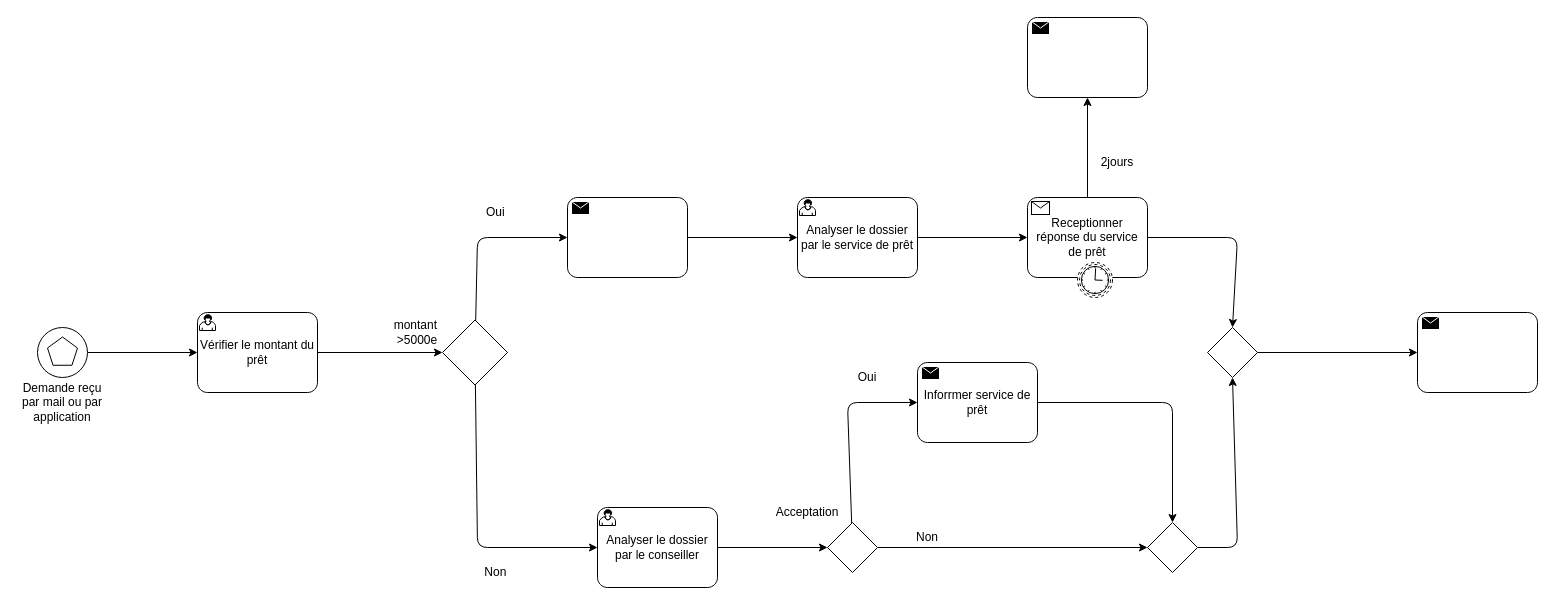
Image size: 1555x605. Some labels were removed from this diagram. Here are the shapes that lost their labels. From the top down, the centre of each, then its label:
(1087,57): Relancer le service de prêt
(627,237): Envoyer dossier de services de prêt
(1477,352): Informer le Client
